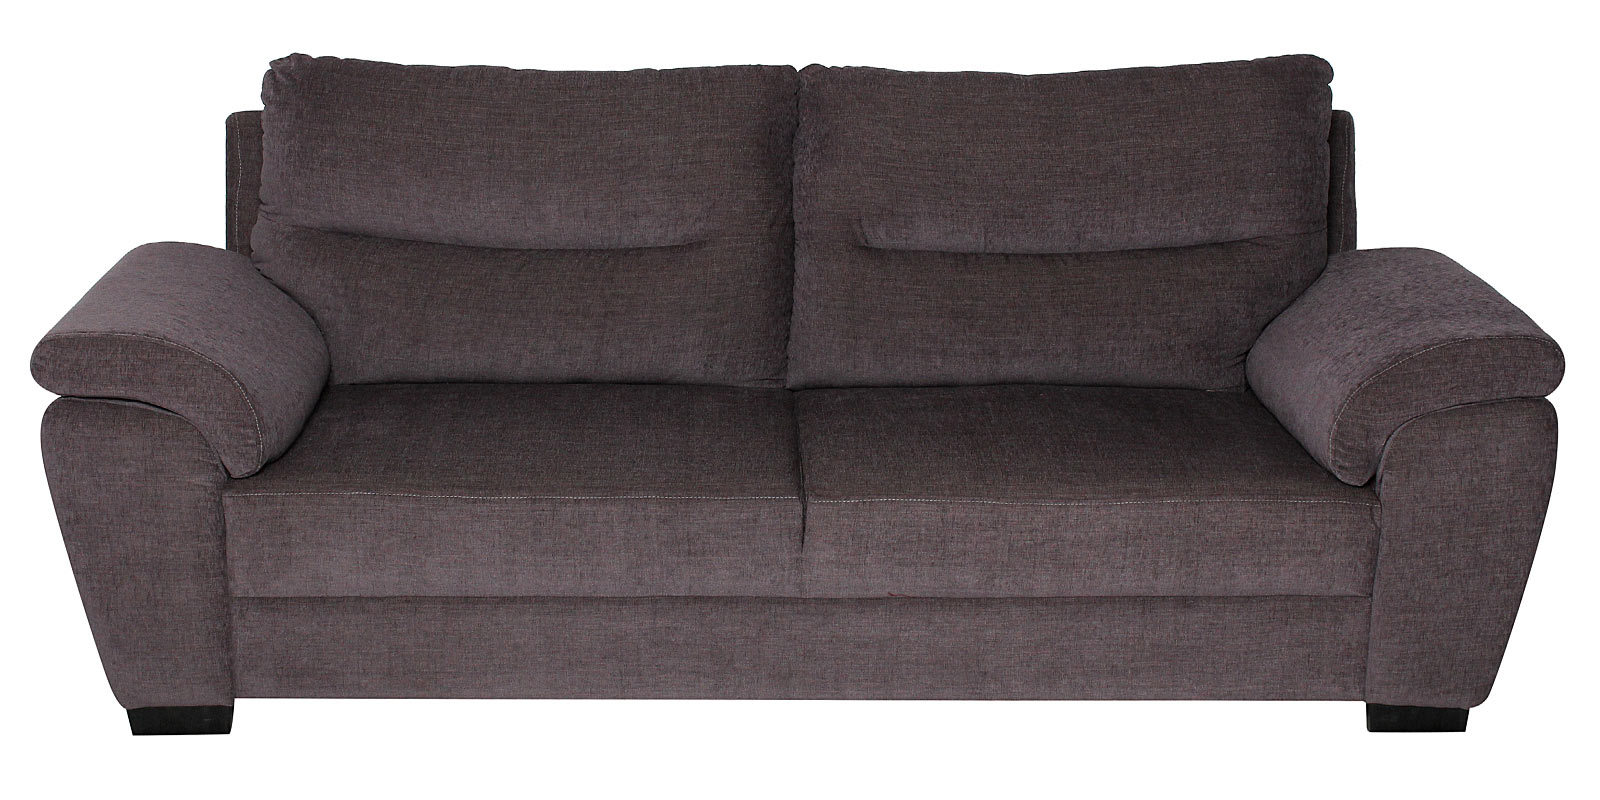Hamfir Three Seater Sofa in Brown Colour by Furniture Mind: (24, 26, 1593, 800)
